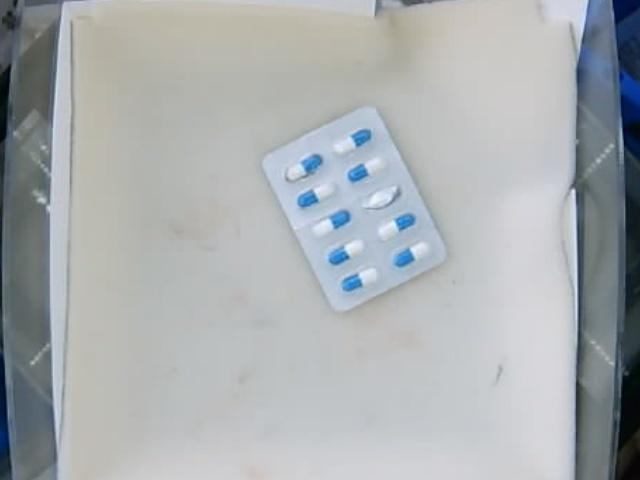Medicine: (259, 108, 447, 314)
